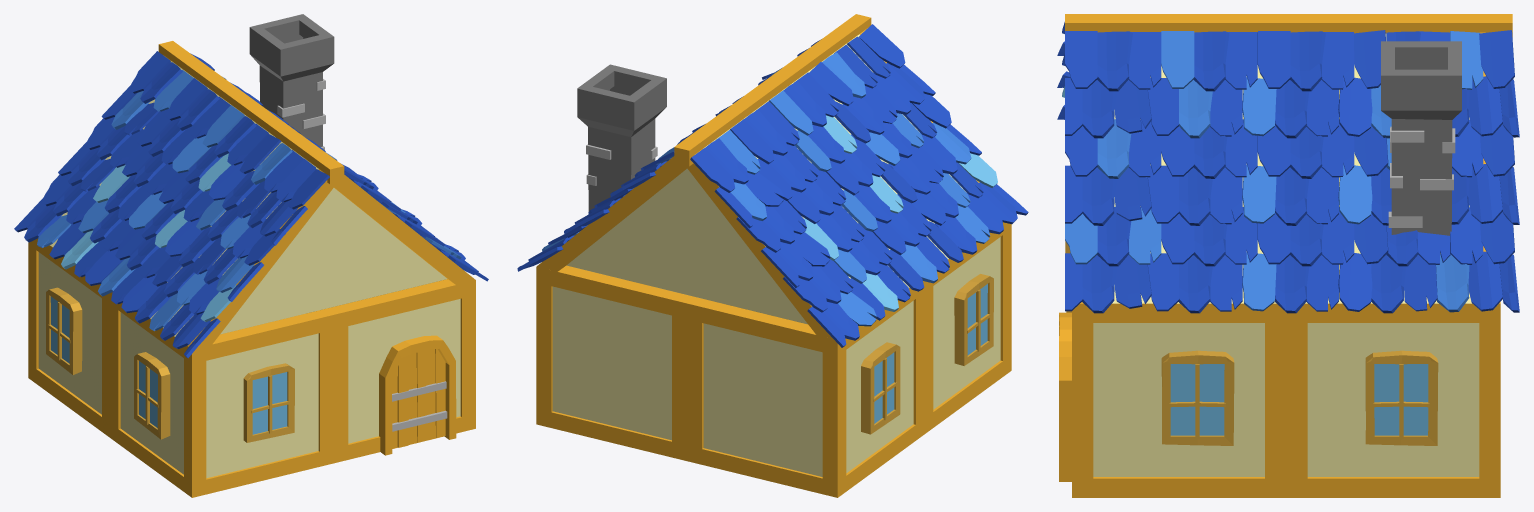
The model's file is Casa.fbx.
3 views of the same model, side by side, from view 1: azimuth 30°, elevation 25°; view 2: azimuth 150°, elevation 25°; view 3: azimuth 270°, elevation 25° (orthographic). The views are drawn at different scales.
Parts seen in each view (by area): view 1: TechoBase.002; view 2: TechoBase.002; view 3: TechoBase.002.
Boxes of the visible parts, x1,y1,x2,y2 form: TechoBase.002: (14,14,488,497); TechoBase.002: (517,14,1028,497); TechoBase.002: (1057,14,1519,497).
Bounding box in the file's own units: 6.5 × 6.29 × 6.47.
